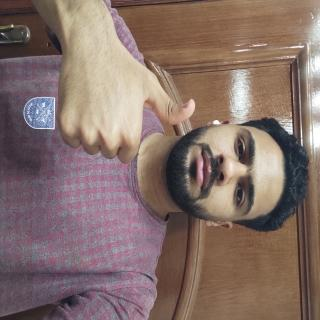ALIF: (22, 158, 120, 320)
